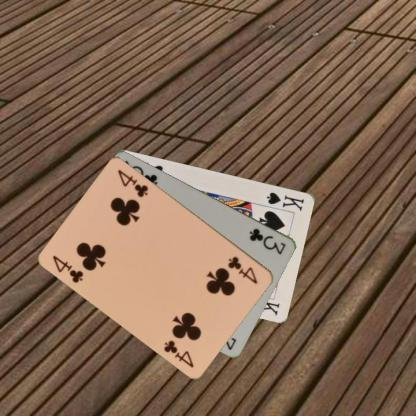3c: (247, 225, 287, 256)
4c: (226, 252, 260, 286), (51, 252, 84, 284)
Ks: (264, 190, 306, 212)
